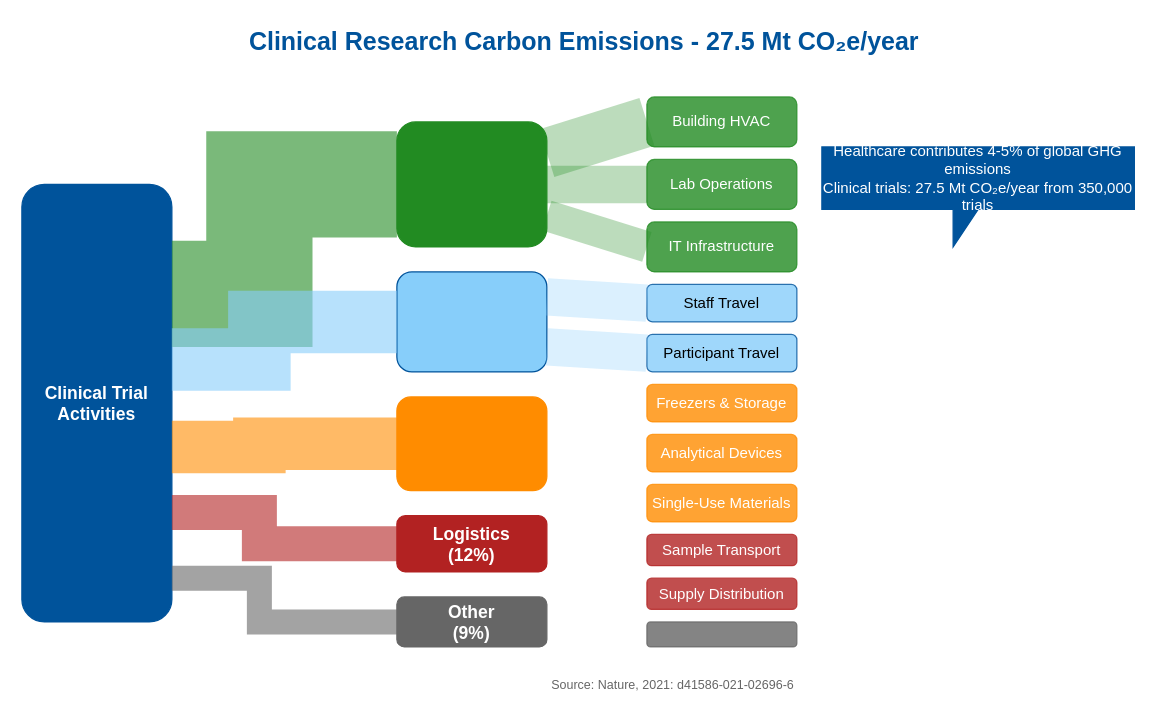
Some shapes in this 1156 by 718 pixel diagram are drawn without their labels. Each missing label, with the centre of its shape:
Admin & Misc.: point (721, 634)
Lab Equipment (19%): point (471, 443)
Site Energy (38%): point (471, 184)
Travel (22%): point (471, 321)
